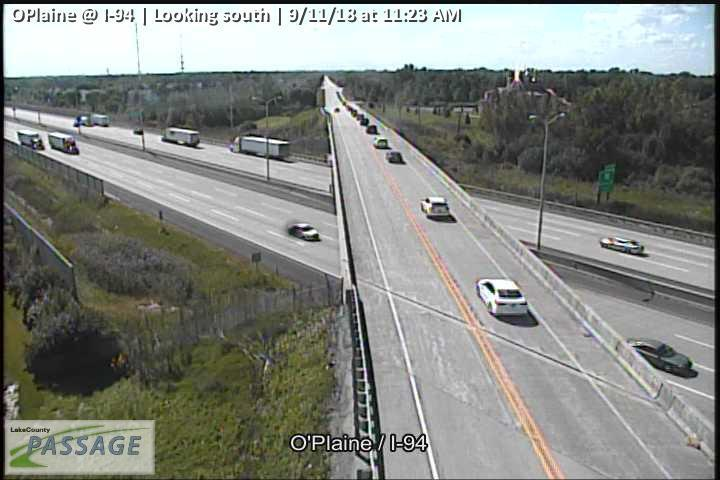SUV: (475, 278, 527, 316), (421, 195, 449, 218), (386, 151, 402, 163), (374, 137, 387, 148)
Sedan: (627, 338, 692, 376), (599, 235, 644, 254), (287, 224, 319, 241)
Truck: (229, 136, 291, 160), (160, 126, 199, 147), (47, 131, 79, 154), (71, 113, 108, 127), (16, 130, 43, 148)
